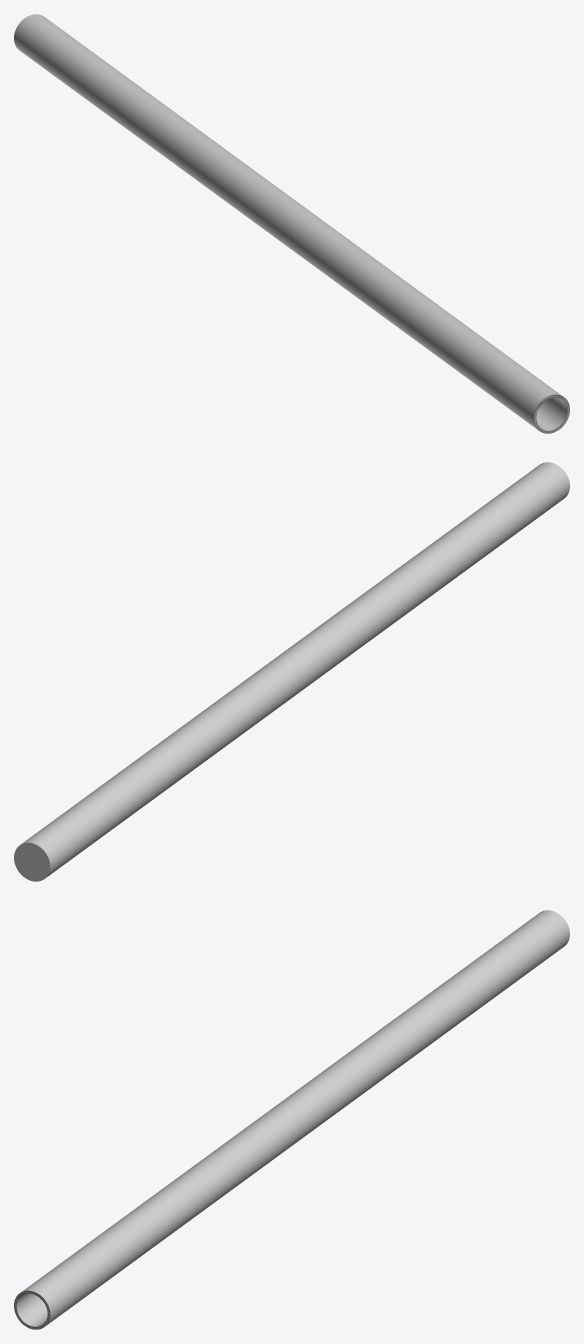
The model's file is Pipe_Small.fbx.
3 renders of one model, top to bottom at view 1: azimuth 30°, elevation 25°; view 2: azimuth 150°, elevation 25°; view 3: azimuth 330°, elevation 25°, orthographic.
Parts seen in each view (by area): view 1: Pipe_Small; view 2: Pipe_Small; view 3: Pipe_Small.
Boxes of the visible parts, left/top/right/bottom form: Pipe_Small: left=14, top=14, right=569, bottom=433; Pipe_Small: left=14, top=462, right=569, bottom=881; Pipe_Small: left=14, top=910, right=569, bottom=1329.
Bounding box in the file's own units: 9.56 × 9.56 × 237.
